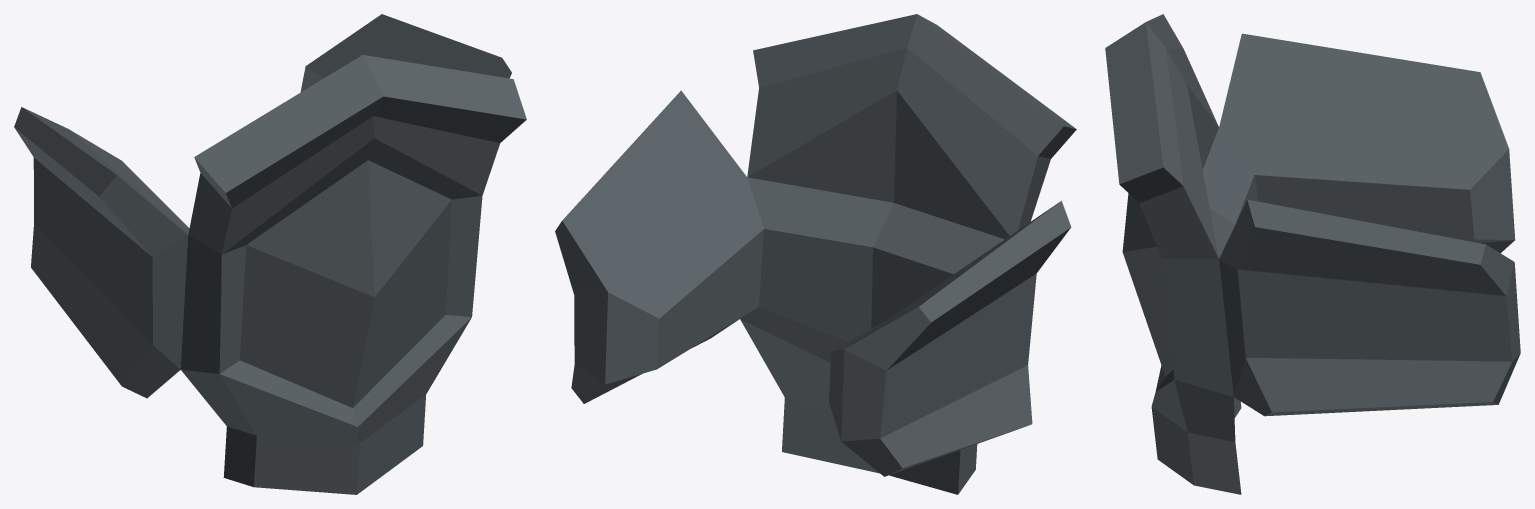
File: Chr_KneeAttachRight_07_Static.fbx
3 renders of one model, left to right at view 1: azimuth 30°, elevation 25°; view 2: azimuth 150°, elevation 25°; view 3: azimuth 270°, elevation 25°, orthographic. The views are drawn at different scales.
Parts seen in each view (by area): view 1: Chr_KneeAttachRight_07_Static; view 2: Chr_KneeAttachRight_07_Static; view 3: Chr_KneeAttachRight_07_Static.
Boxes of the visible parts, left/top/right/bottom form: Chr_KneeAttachRight_07_Static: left=14, top=14, right=526, bottom=494; Chr_KneeAttachRight_07_Static: left=555, top=14, right=1076, bottom=494; Chr_KneeAttachRight_07_Static: left=1105, top=14, right=1520, bottom=494.
Size of the model in its own units: 0.22 by 0.2291 by 0.1935.
